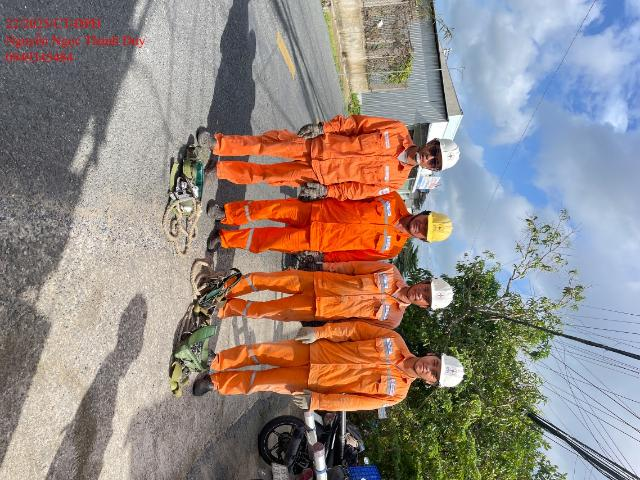gloves: (299, 178, 330, 203), (291, 380, 317, 409), (298, 116, 328, 141), (294, 245, 331, 263), (289, 259, 324, 274), (296, 326, 319, 346)
helmet: (430, 130, 467, 178), (425, 198, 458, 250), (440, 350, 466, 391), (428, 272, 457, 306)
shoes: (189, 367, 216, 399), (194, 124, 217, 154), (206, 197, 227, 224), (202, 154, 219, 187), (198, 347, 222, 370), (206, 225, 223, 252)
